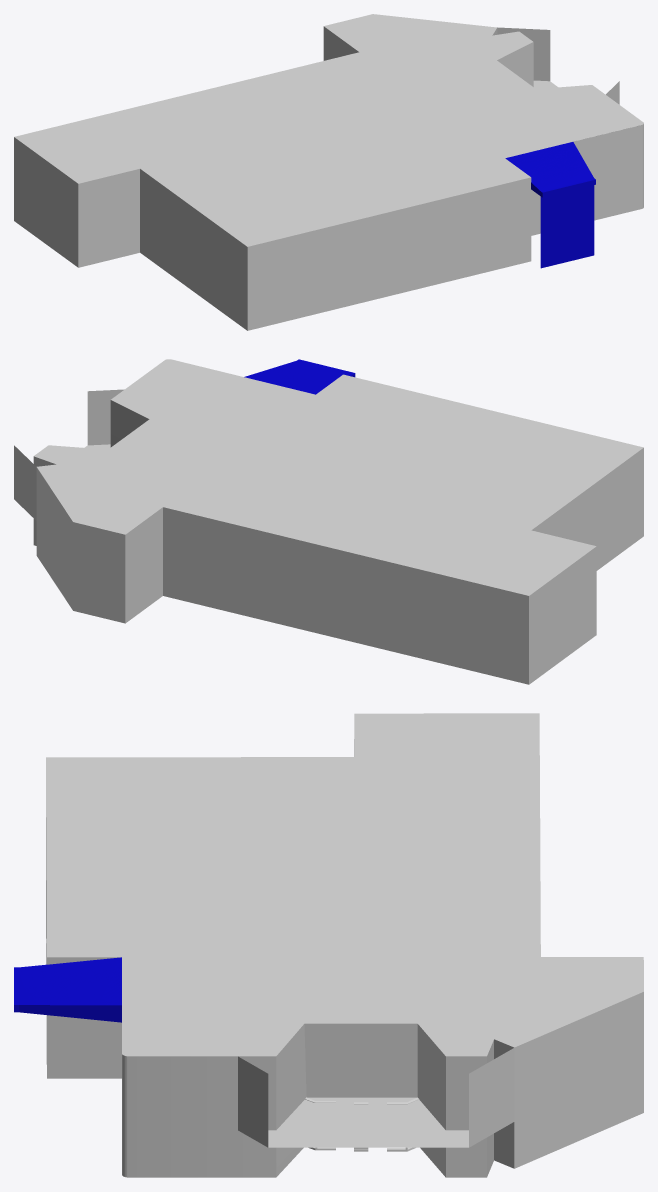
Rendered from Servicio Social.fbx.
3 renders of one model, top to bottom at view 1: azimuth 30°, elevation 25°; view 2: azimuth 150°, elevation 25°; view 3: azimuth 270°, elevation 25°, orthographic. The views are drawn at different scales.
Visible parts, largest first — view 1: Paredes._Rojas, Paredes_Blancas, Paredes._Blanca_Separada; view 2: Paredes._Rojas, Paredes_Blancas; view 3: Paredes._Rojas, Paredes_Blancas.
Part boxes in pixels (box(x1,y1,x2,y2)): Paredes._Rojas: box(14, 14, 643, 330); Paredes_Blancas: box(497, 27, 619, 268); Paredes._Blanca_Separada: box(573, 125, 641, 220); Paredes._Rojas: box(33, 359, 643, 684); Paredes_Blancas: box(14, 359, 355, 520); Paredes._Rojas: box(46, 713, 643, 1177); Paredes_Blancas: box(14, 957, 514, 1147).
Bounding box in the file's own units: 41.43 × 6.5 × 30.61.
